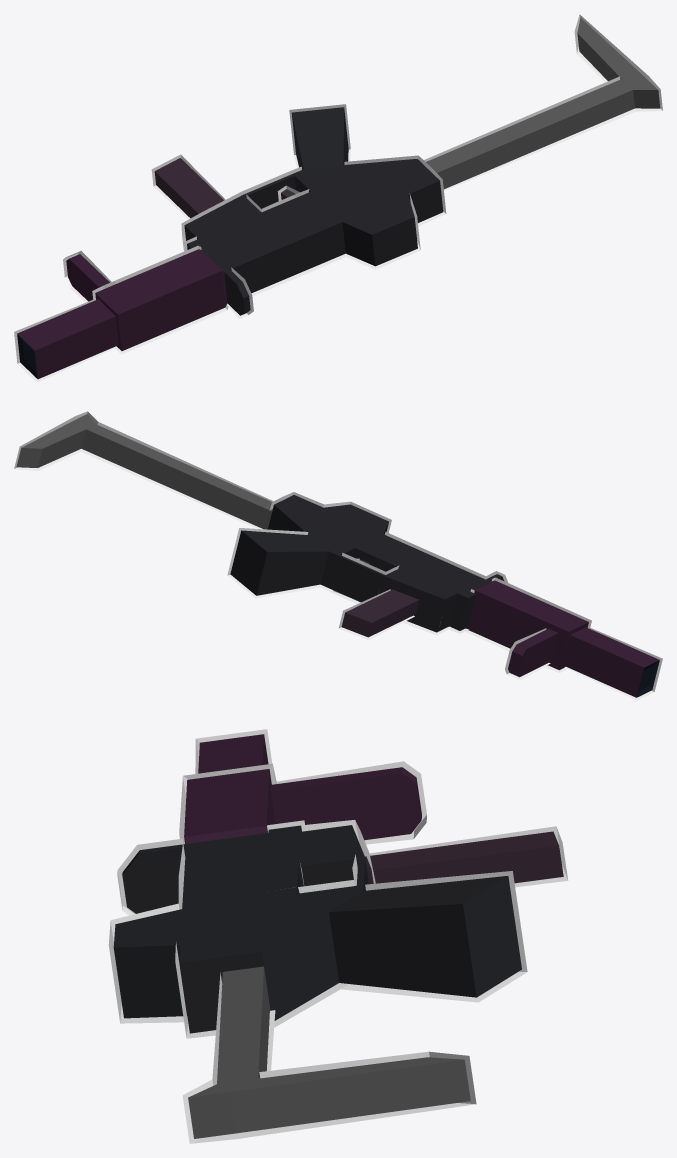
The model's file is RifleSeparate.gltf.
The picture shows the model from 3 angles, top to bottom: view 1: azimuth 30°, elevation 25°; view 2: azimuth 150°, elevation 25°; view 3: azimuth 270°, elevation 25°; orthographic projection. The views are drawn at different scales.
Parts seen in each view (by area): view 1: Rifle; view 2: Rifle; view 3: Rifle.
Part boxes in pixels (x1,y1,x2,y2): Rifle: [14, 14, 662, 382]; Rifle: [14, 411, 662, 700]; Rifle: [108, 729, 568, 1143].
Bounding box in the file's own units: 0.4053 × 0.1028 × 0.1382.
Materials: 2 (1 with a texture image).
